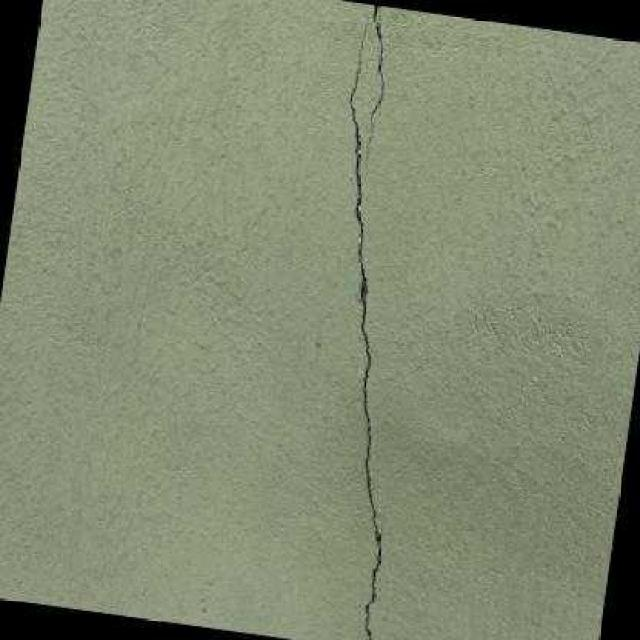D00: (349, 13, 382, 640), (364, 5, 383, 178)
